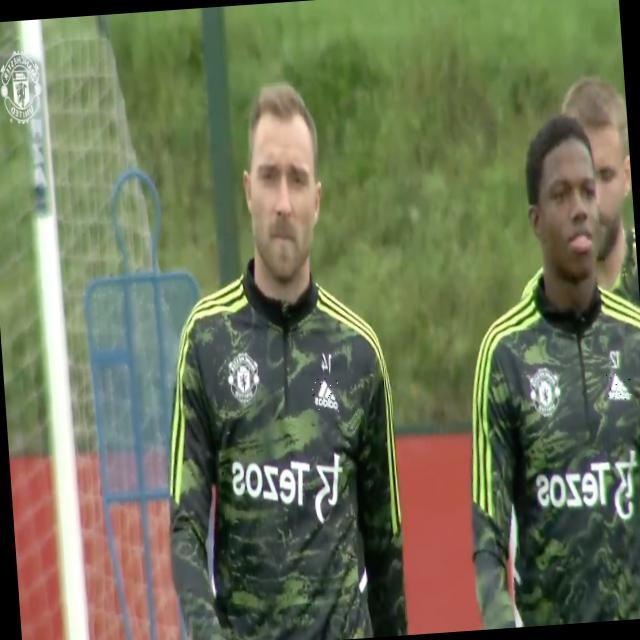Adidas: (310, 377, 339, 413), (605, 371, 632, 403)
